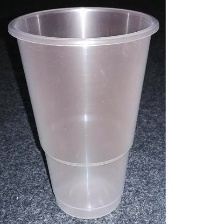glass: (4, 4, 162, 223)
